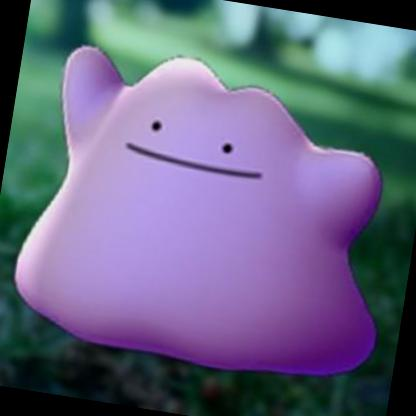Ditto: (0, 0, 415, 415), (1, 16, 415, 415)
